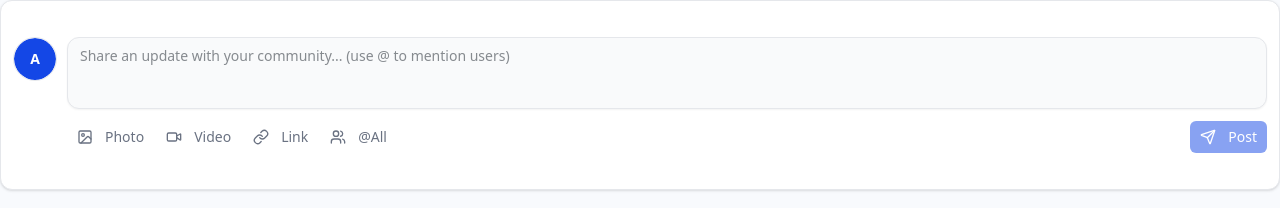
Test: PostComposer › mention search › inserts the full mention when an option is clicked
In the text box with placeholder "Share an update": [667, 73] box [67,37,1267,109], type "@Al"
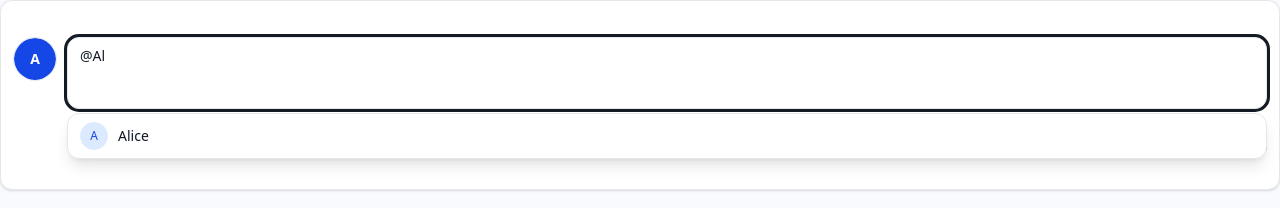
Click the text "Alice": [133, 136] box [118,126,149,146]
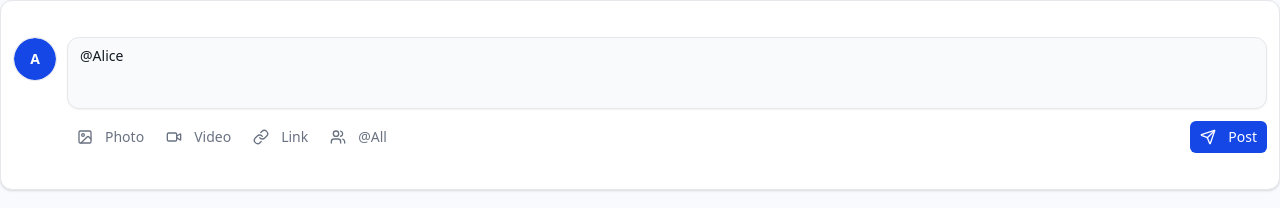
Expected: the text box with placeholder "Share an update" holds "@Alice ", [67,37,1267,109]
